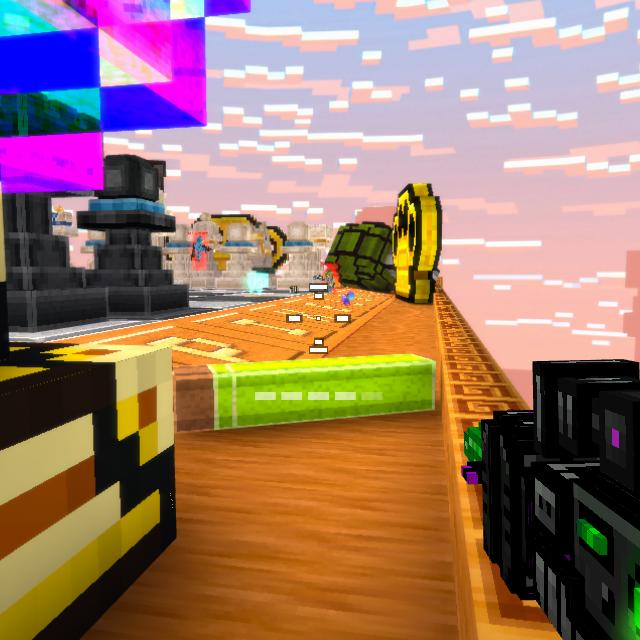Enemy: (193, 237, 209, 262), (323, 270, 335, 292)
